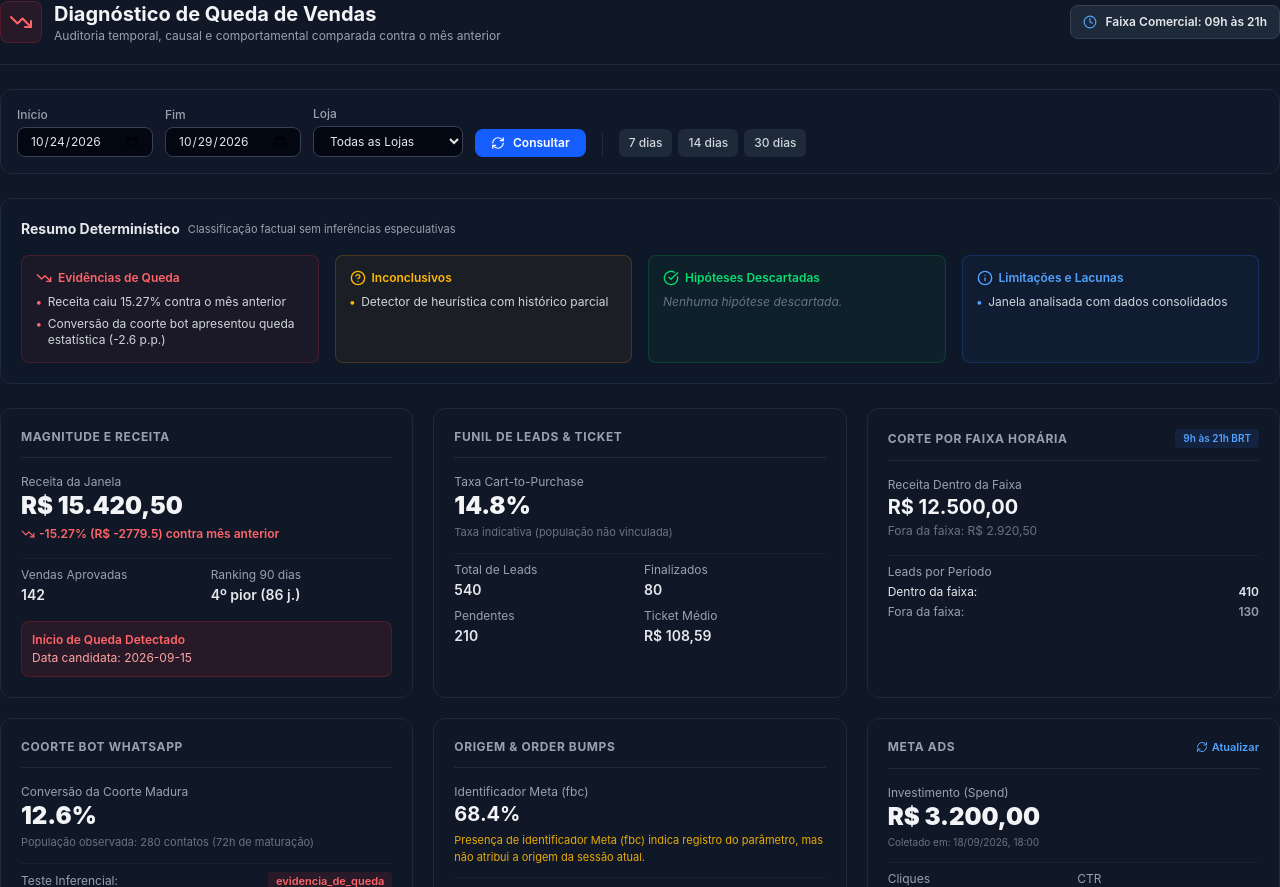
Test: SalesDiagnostics Component (T7) › 5. Persistencia global e CAS com conflito 409 no modal de faixa comercial
Note: Abre o modal
Click the button "Faixa Comercial: 09h às 21h": (1175, 22) top-left (1070, 5), bottom-right (1279, 39)
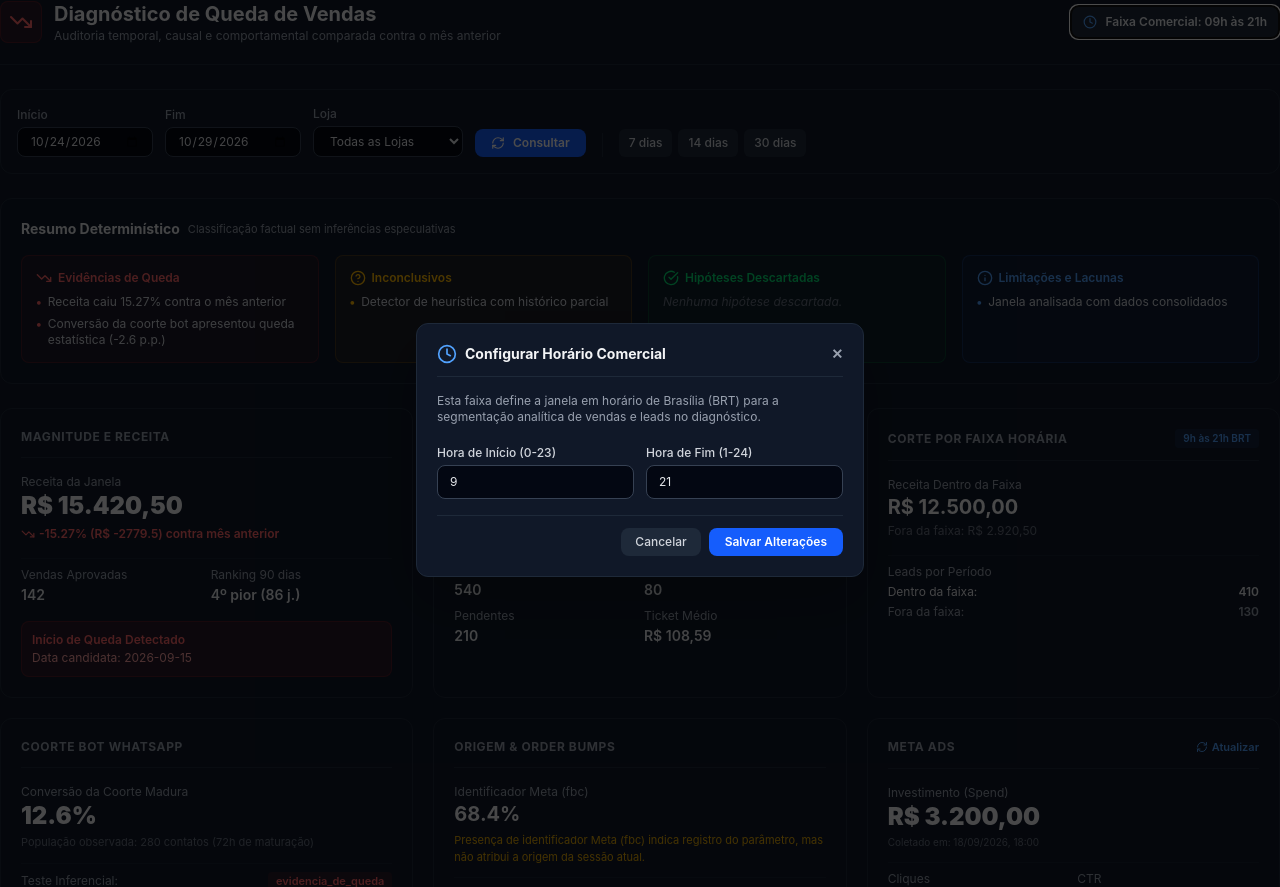
expect the heading "Configurar Horário Comercial" is shown: met, box top-left (465, 344), bottom-right (666, 364)
Click the button "Salvar Alterações": (776, 542) top-left (709, 528), bottom-right (843, 556)
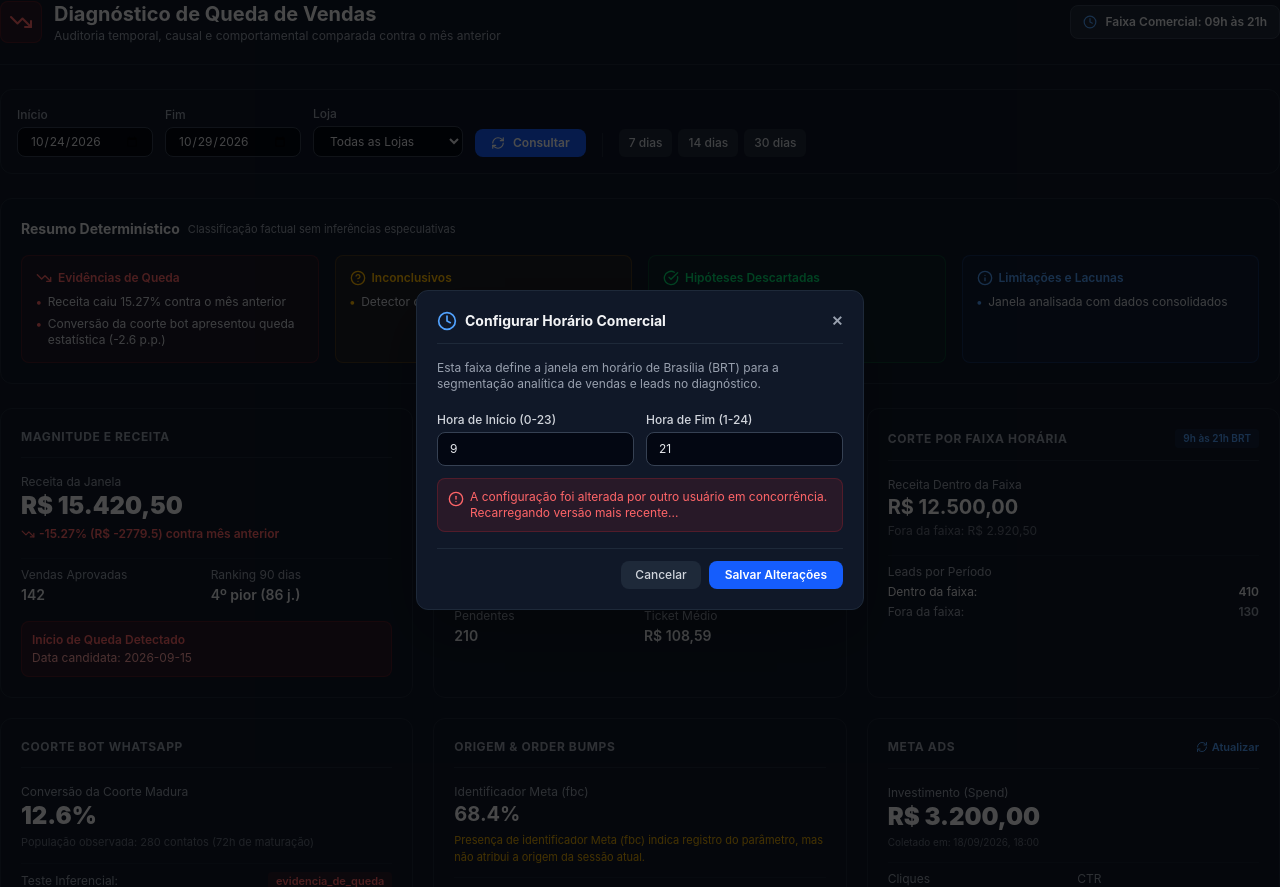
expect the text "alterada por outro usuário em concorrência" is shown: met, box top-left (470, 489), bottom-right (827, 520)
